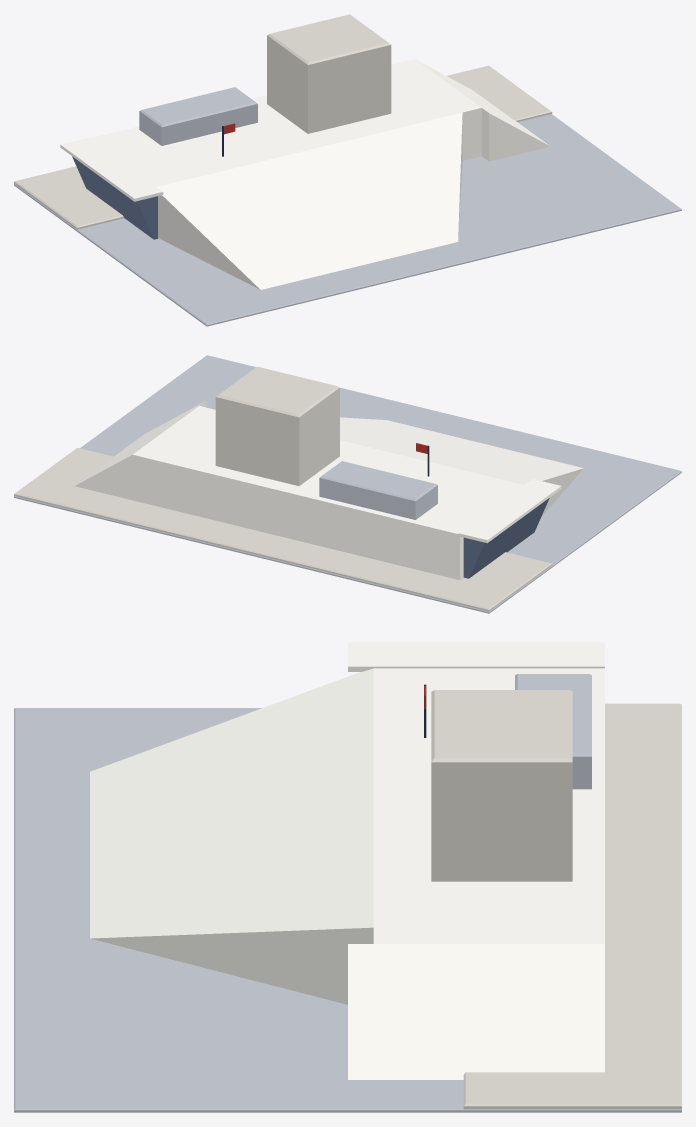
File: oslo.glb
3 renders of one model, top to bottom at view 1: azimuth 30°, elevation 25°; view 2: azimuth 150°, elevation 25°; view 3: azimuth 270°, elevation 25°, orthographic. The views are drawn at different scales.
Parts seen in each view (by area): view 1: model; view 2: model; view 3: model.
Boxes of the visible parts, x1=… form: model: x1=14, y1=14, x2=681, y2=326; model: x1=14, y1=355, x2=681, y2=613; model: x1=14, y1=642, x2=681, y2=1112.
Size of the model in its own units: 148 by 36 by 104.
